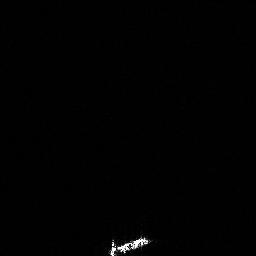ship: (104, 230, 151, 256)
